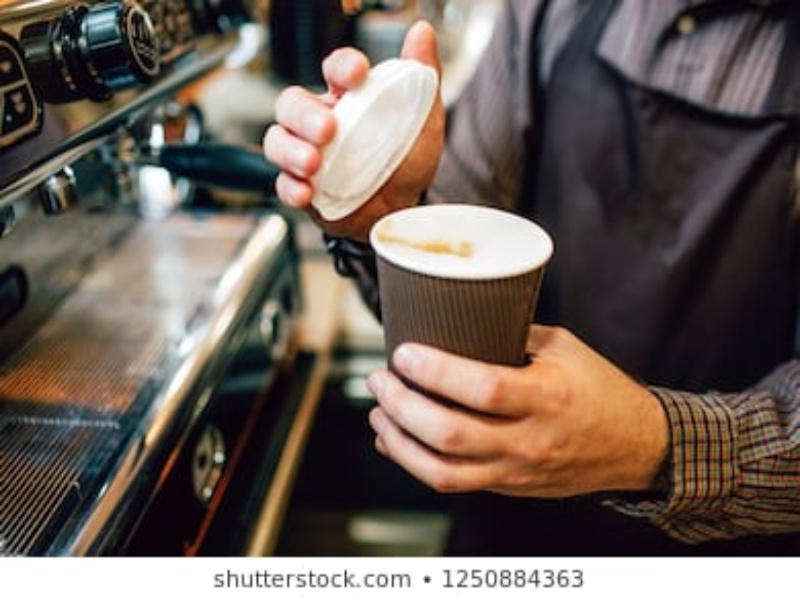coffee-lid: (302, 53, 442, 229)
